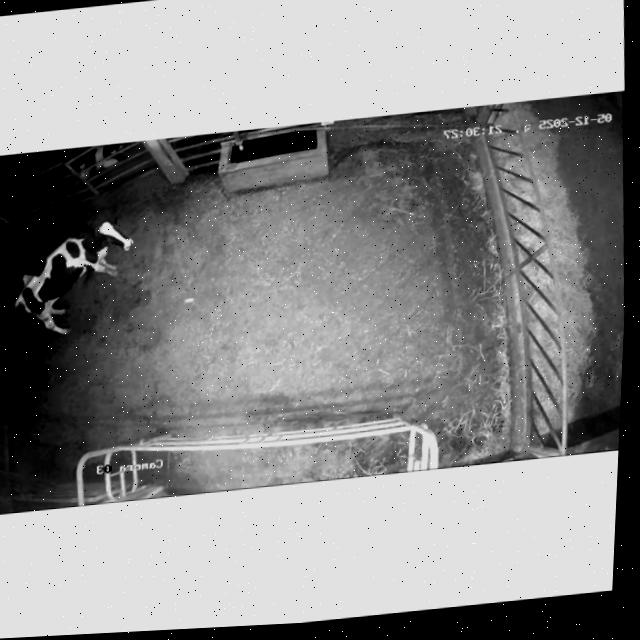stand: (5, 198, 152, 365)
